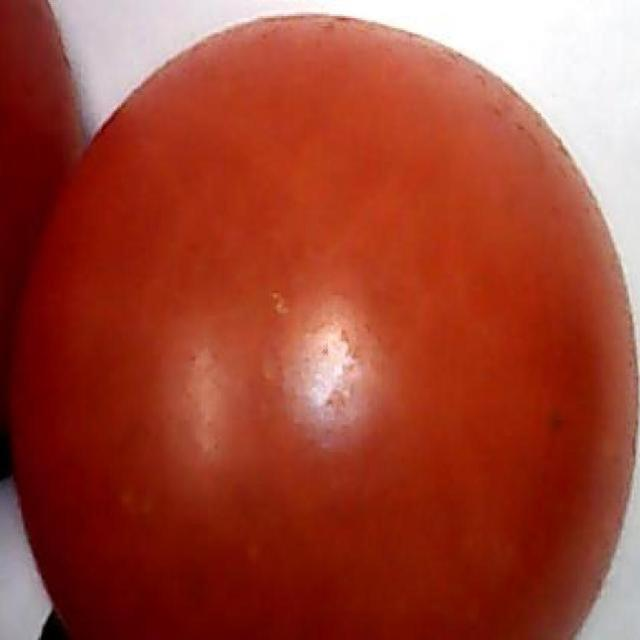Healthy Fruit: (28, 0, 424, 427)
